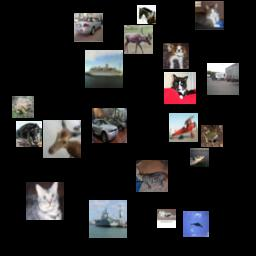airplane: (169, 113, 198, 142), (183, 211, 209, 237)
automobile: (92, 108, 127, 143), (74, 13, 103, 42)
cat: (26, 182, 64, 220), (164, 72, 196, 104), (136, 160, 168, 192), (195, 1, 224, 30), (157, 209, 176, 228)
deer: (43, 120, 81, 158), (124, 25, 153, 54)
dog: (163, 43, 189, 69)
frog: (12, 96, 34, 118), (201, 125, 223, 147)
ship: (89, 200, 127, 238), (85, 50, 123, 88), (190, 148, 209, 167)
truck: (207, 63, 239, 95)
